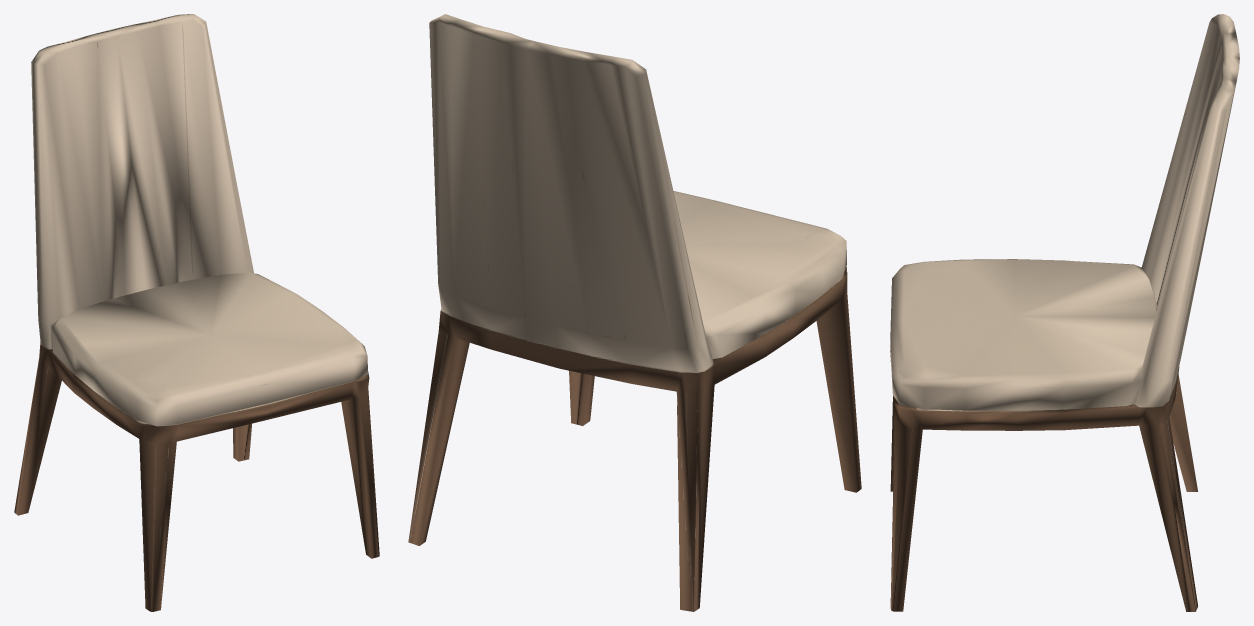
Rendered from dining_chair.fbx.
The picture shows the model from 3 angles, left to right: view 1: azimuth 30°, elevation 25°; view 2: azimuth 150°, elevation 25°; view 3: azimuth 270°, elevation 25°; orthographic projection. The views are drawn at different scales.
Parts seen in each view (by area): view 1: Mesh_0; view 2: Mesh_0; view 3: Mesh_0.
Boxes of the visible parts, x1,y1,x2,y2 form: Mesh_0: (14,14,379,611); Mesh_0: (408,14,861,611); Mesh_0: (890,14,1239,611).
Size of the model in its own units: 52.29 by 95.12 by 61.04.
Materials: 1 (1 with a texture image).
